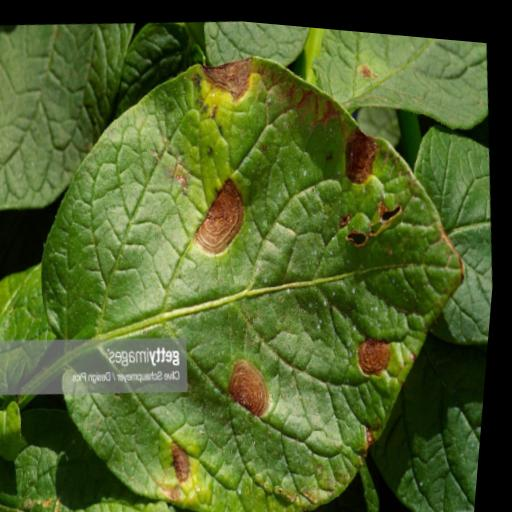Early Blight: (4, 15, 507, 512)
